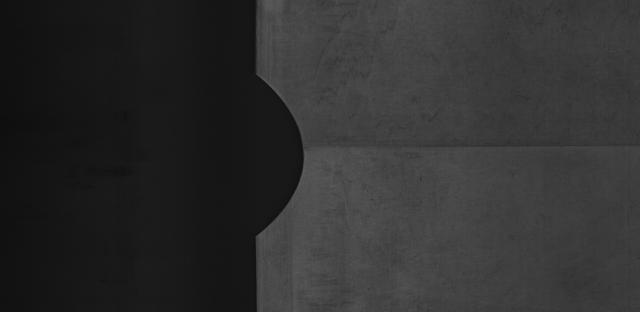crescent_gap: (231, 70, 316, 244)
welding_line: (290, 131, 640, 162)
